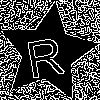R: (22, 28, 66, 80)
